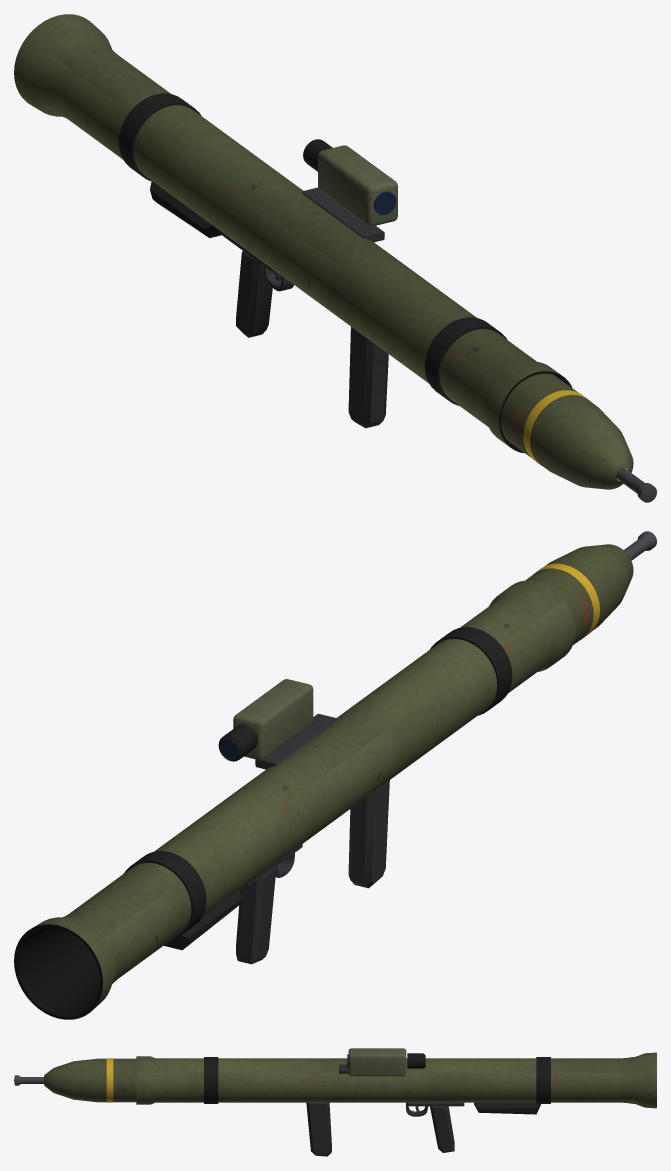
The model's file is rocket-launcher.glb.
The picture shows the model from 3 angles, top to bottom: view 1: azimuth 30°, elevation 25°; view 2: azimuth 150°, elevation 25°; view 3: azimuth 270°, elevation 25°; orthographic projection. The views are drawn at different scales.
Parts seen in each view (by area): view 1: Launcher, Rocket; view 2: Launcher, Rocket; view 3: Launcher, Rocket.
Part boxes in pixels (x1,y1,x2,y2): Launcher: (14, 14, 572, 453); Rocket: (501, 373, 656, 502); Launcher: (14, 580, 575, 1019); Rocket: (526, 531, 656, 644); Launcher: (136, 1048, 656, 1156); Rocket: (14, 1058, 136, 1102).
Size of the model in its own units: 0.133 by 0.262 by 1.33.
Materials: 9 (5 with a texture image).
